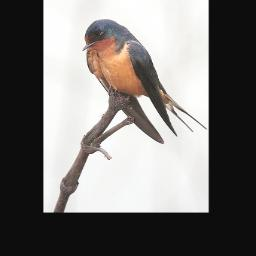Swallow: (81, 18, 206, 144)
